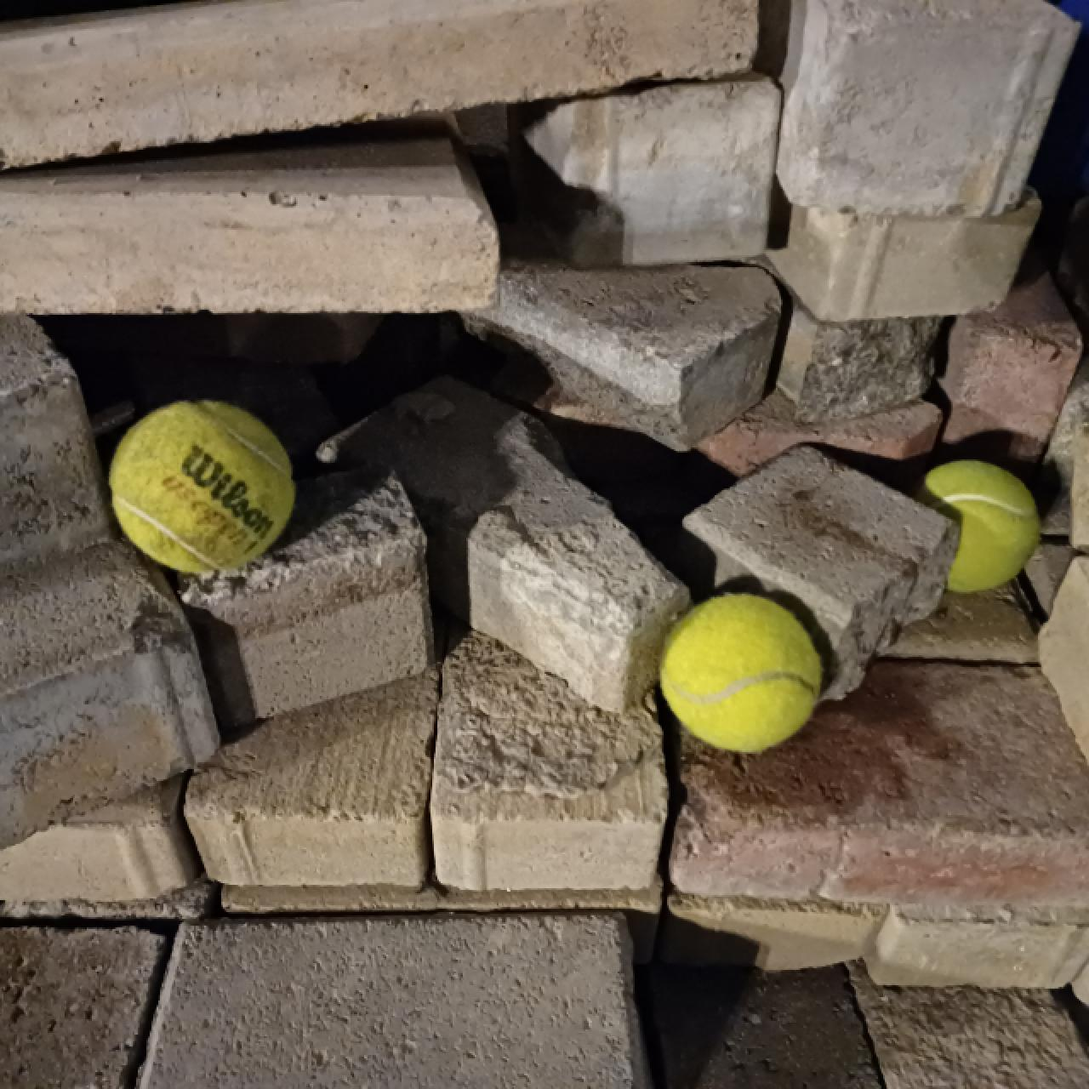tennis-ball: (108, 398, 297, 574), (661, 593, 823, 753), (899, 459, 1041, 592)
